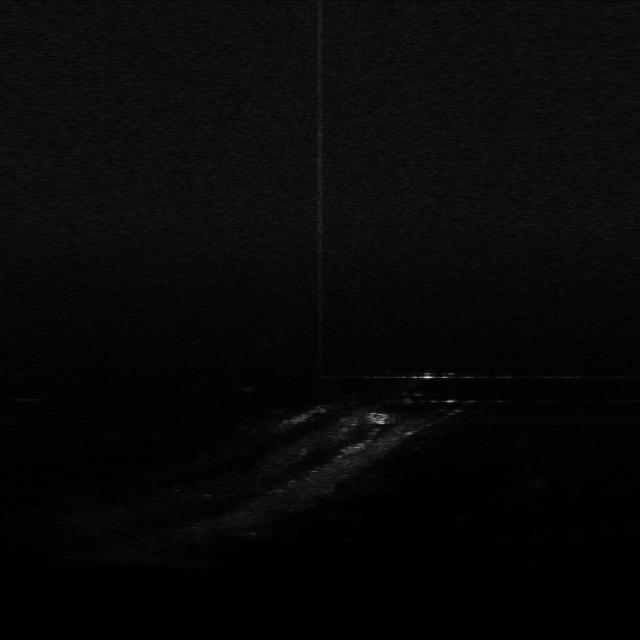rov: (364, 409, 394, 426)
